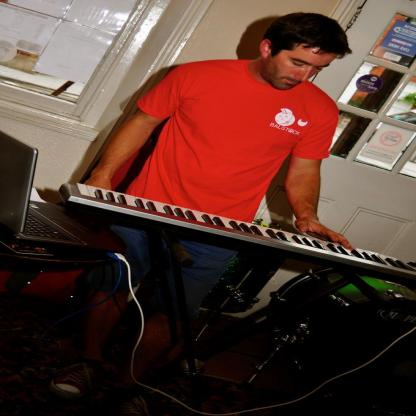board: (0, 130, 125, 254)
